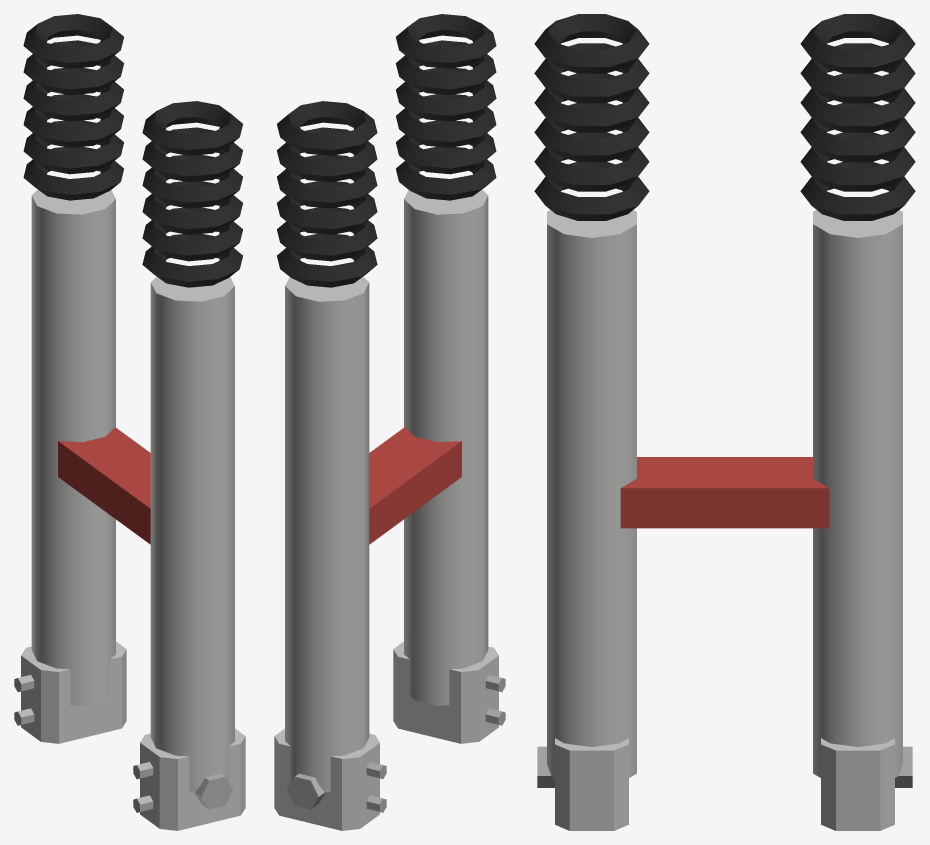
File: scrambler_gaiter_long_lower_lod1.glb
The picture shows the model from 3 angles, left to right: view 1: azimuth 30°, elevation 25°; view 2: azimuth 150°, elevation 25°; view 3: azimuth 270°, elevation 25°; orthographic projection. The views are drawn at different scales.
Visible parts, largest first — view 1: scrambler_gaiter_long_lower_lod1; view 2: scrambler_gaiter_long_lower_lod1; view 3: scrambler_gaiter_long_lower_lod1.
Part boxes in pixels (<box>): scrambler_gaiter_long_lower_lod1: <box>14,14,245,830</box>; scrambler_gaiter_long_lower_lod1: <box>274,14,505,830</box>; scrambler_gaiter_long_lower_lod1: <box>534,14,915,830</box>.
Bounding box in the file's own units: 0.0865 × 0.579 × 0.258.
